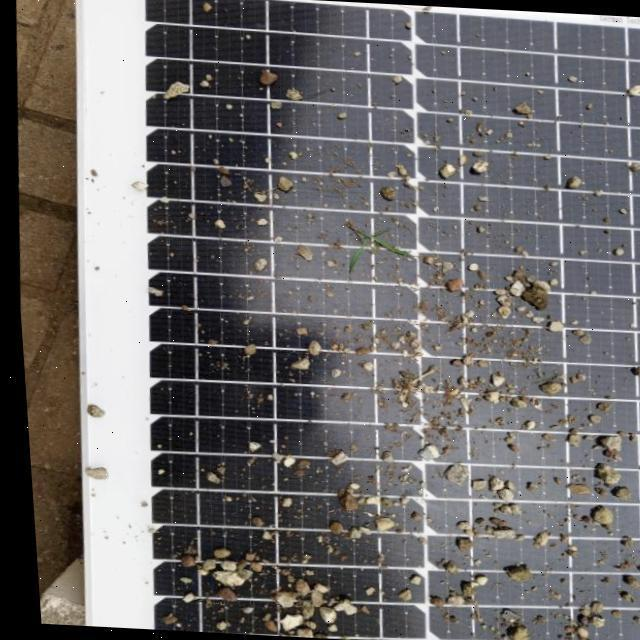Surface Contaminant: (129, 1, 640, 640)
